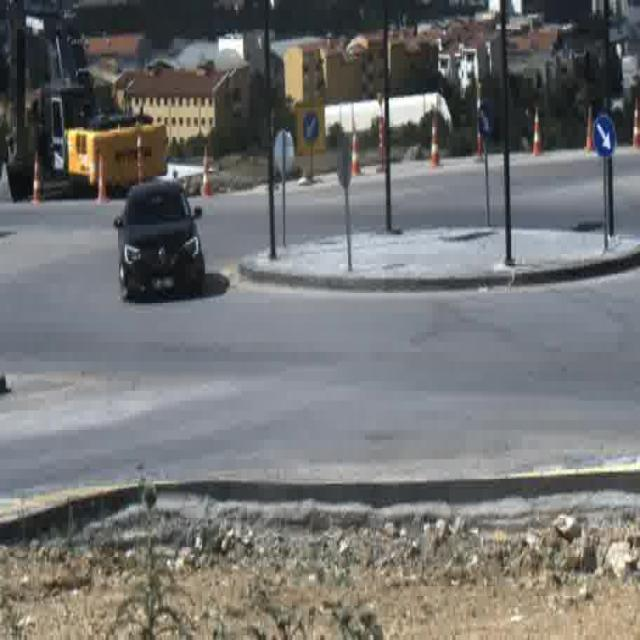Car: (115, 179, 205, 300)
